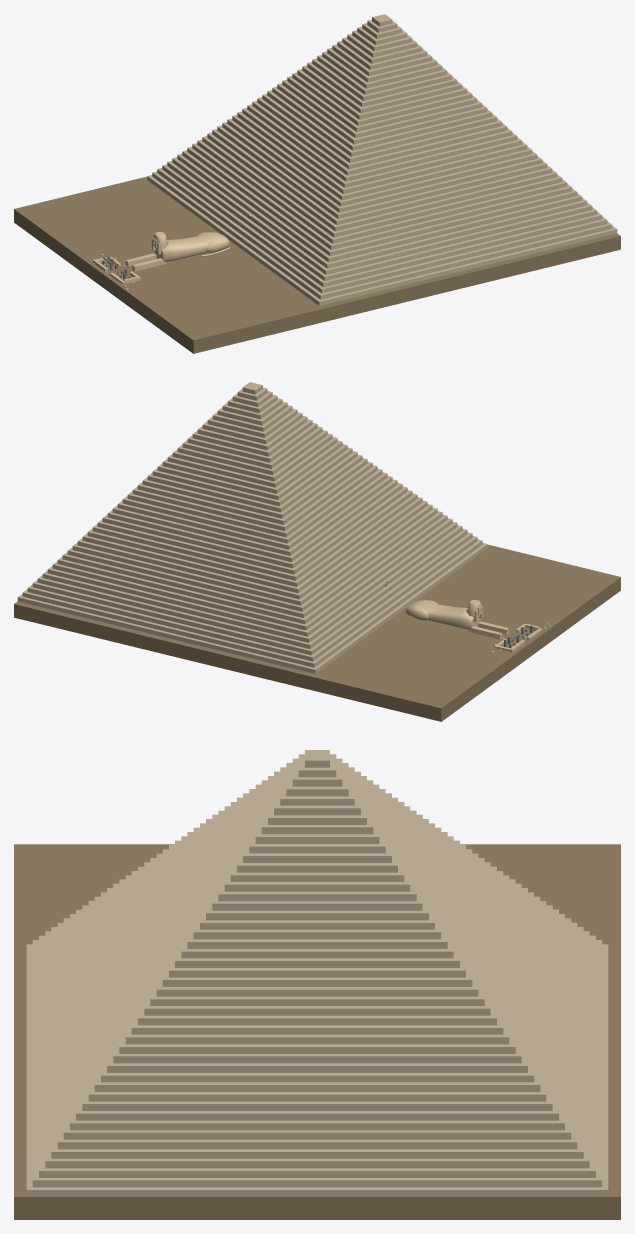
Rendered from top-prebuilt_close.fbx.
The picture shows the model from 3 angles, top to bottom: view 1: azimuth 30°, elevation 25°; view 2: azimuth 150°, elevation 25°; view 3: azimuth 270°, elevation 25°; orthographic projection. The views are drawn at different scales.
Parts seen in each view (by area): view 1: landmark-pyramid/0/top-prebuilt_close; view 2: landmark-pyramid/0/top-prebuilt_close; view 3: landmark-pyramid/0/top-prebuilt_close.
Part boxes in pixels (<box>): landmark-pyramid/0/top-prebuilt_close: <box>14,14,620,353</box>; landmark-pyramid/0/top-prebuilt_close: <box>14,382,620,721</box>; landmark-pyramid/0/top-prebuilt_close: <box>14,750,620,1219</box>.
Size of the model in its own units: 330 by 149 by 240.
